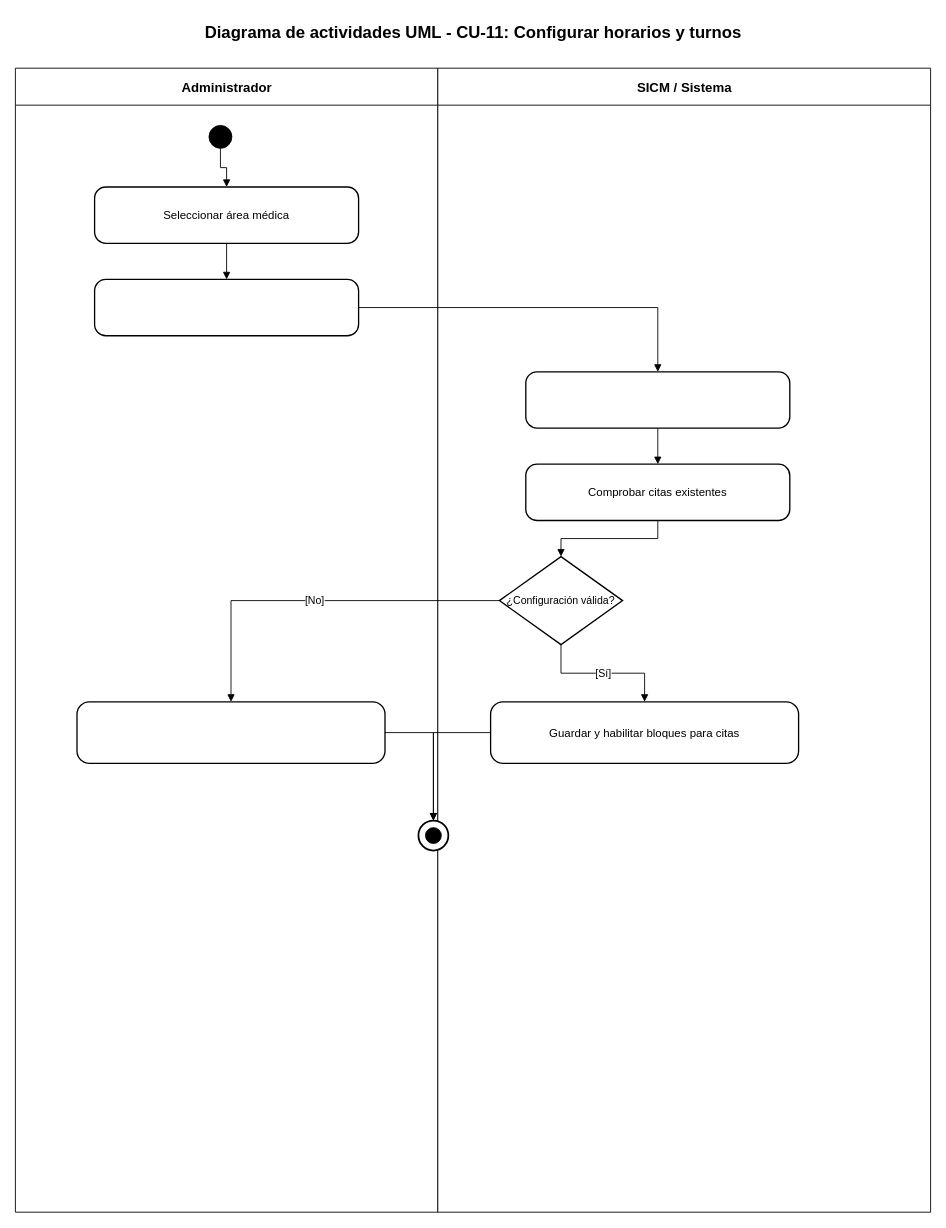
The diagram is 946 pixels wide and 1228 high, and some of its shapes have lost their labels. Here are the shapes that lost their labels. From the top down, the centre of each, then its label:
pixel 226 307: Definir bloques de atención
pixel 657 399: Validar apertura, cierre y solapamientos
pixel 230 732: Mostrar error o alerta de citas afectadas
